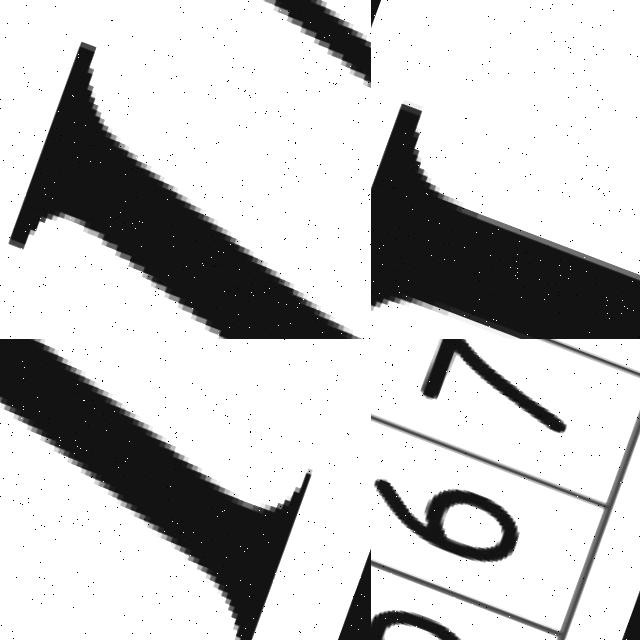5: (371, 578, 481, 640)
6: (371, 456, 527, 578)
7: (409, 339, 585, 451)
L: (371, 0, 640, 339)
T: (0, 339, 371, 640)
U: (0, 0, 371, 339)
